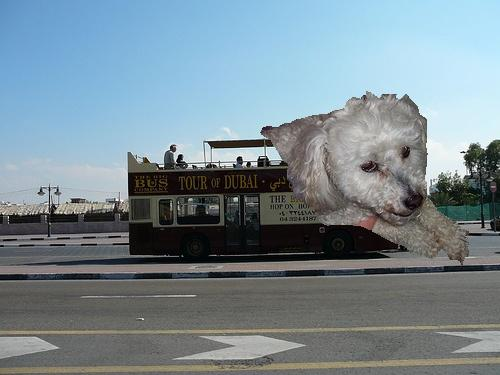tampered: (261, 92, 469, 265)
